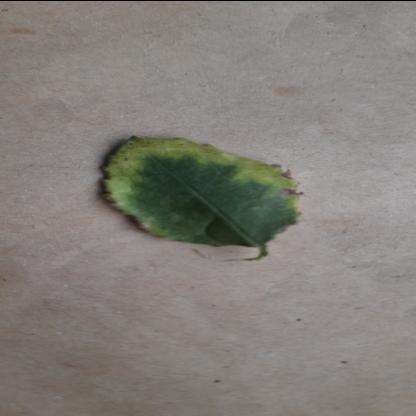black-spot: (96, 134, 300, 248)
